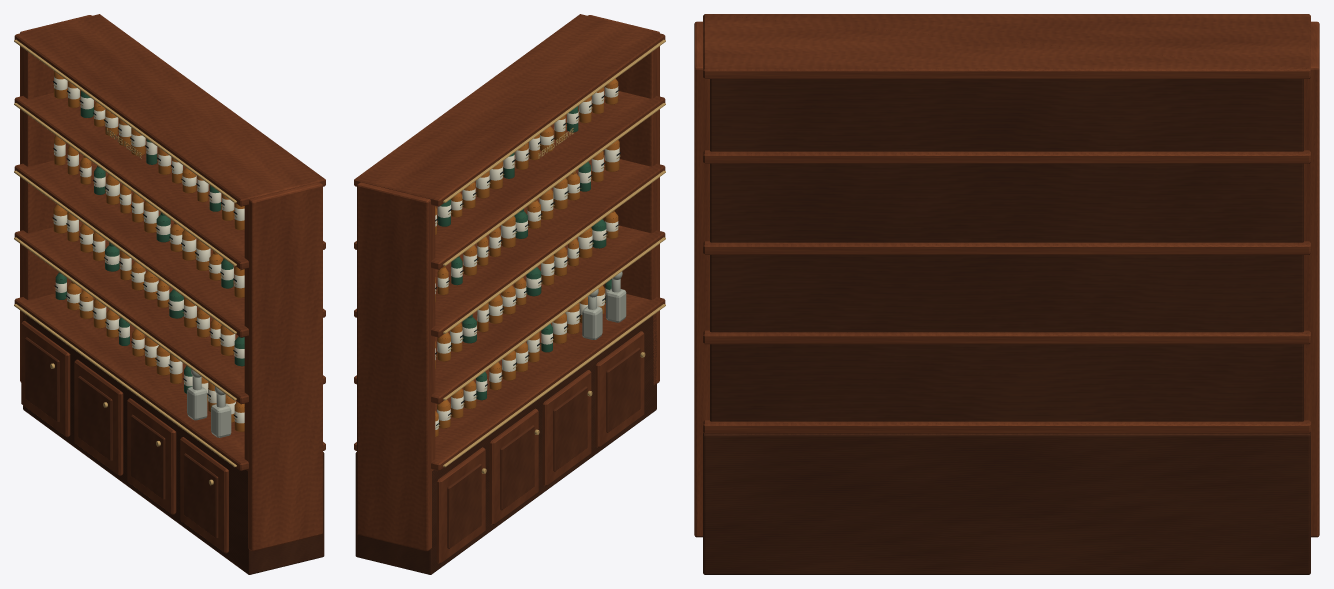
File: whiskey-cabinet.glb
3 renders of one model, left to right at view 1: azimuth 30°, elevation 25°; view 2: azimuth 150°, elevation 25°; view 3: azimuth 270°, elevation 25°, orthographic. The views are drawn at different scales.
Visible parts, largest first — view 1: part::whiskey-cabinet/whiskey-cabinet-end-002, part::whiskey-cabinet/whiskey-cabinet-shelf-005, part::whiskey-cabinet/whiskey-cabinet-shelf-003, part::whiskey-cabinet/whiskey-cabinet-shelf-004, part::whiskey-cabinet/whiskey-cabinet-shelf-002, part::whiskey-cabinet/whiskey-base-cabinet-001, part::whiskey-cabinet/whiskey-cabinet-shelf-001, part::whiskey-cabinet/whiskey-cabinet-end-001, part::whiskey-cabinet/cabinet-raised-door-002, part::whiskey-cabinet/cabinet-raised-door-001, part::whiskey-cabinet/cabinet-recessed-panel-002, part::whiskey-cabinet/cabinet-recessed-panel-001 (+11 smaller); view 2: part::whiskey-cabinet/whiskey-cabinet-end-001, part::whiskey-cabinet/whiskey-cabinet-shelf-005, part::whiskey-cabinet/whiskey-cabinet-shelf-003, part::whiskey-cabinet/whiskey-cabinet-shelf-004, part::whiskey-cabinet/whiskey-cabinet-shelf-002, part::whiskey-cabinet/whiskey-base-cabinet-001, part::whiskey-cabinet/whiskey-cabinet-shelf-001, part::whiskey-cabinet/whiskey-cabinet-end-002, part::whiskey-cabinet/cabinet-raised-door-001, part::whiskey-cabinet/cabinet-raised-door-002, part::whiskey-cabinet/cabinet-raised-door-003, part::whiskey-cabinet/cabinet-raised-door-004 (+11 smaller); view 3: part::whiskey-cabinet/whiskey-cabinet-backing-001, part::whiskey-cabinet/whiskey-base-cabinet-001, part::whiskey-cabinet/whiskey-cabinet-shelf-005, part::whiskey-cabinet/whiskey-cabinet-shelf-002, part::whiskey-cabinet/whiskey-cabinet-shelf-001, part::whiskey-cabinet/whiskey-cabinet-shelf-003, part::whiskey-cabinet/whiskey-cabinet-shelf-004, part::whiskey-cabinet/whiskey-cabinet-end-001, part::whiskey-cabinet/whiskey-cabinet-end-002.
Boxes of the visible parts, bbox=[...] form: part::whiskey-cabinet/whiskey-cabinet-end-002: bbox=[244, 182, 322, 551]; part::whiskey-cabinet/whiskey-cabinet-shelf-005: bbox=[14, 14, 325, 206]; part::whiskey-cabinet/whiskey-cabinet-shelf-003: bbox=[14, 154, 325, 337]; part::whiskey-cabinet/whiskey-cabinet-shelf-004: bbox=[14, 89, 325, 269]; part::whiskey-cabinet/whiskey-cabinet-shelf-002: bbox=[14, 221, 325, 404]; part::whiskey-cabinet/whiskey-base-cabinet-001: bbox=[23, 313, 324, 574]; part::whiskey-cabinet/whiskey-cabinet-shelf-001: bbox=[14, 289, 325, 470]; part::whiskey-cabinet/whiskey-cabinet-end-001: bbox=[20, 15, 91, 382]; part::whiskey-cabinet/cabinet-raised-door-002: bbox=[74, 359, 123, 475]; part::whiskey-cabinet/cabinet-raised-door-001: bbox=[21, 321, 70, 437]; part::whiskey-cabinet/cabinet-recessed-panel-002: bbox=[78, 376, 112, 461]; part::whiskey-cabinet/cabinet-recessed-panel-001: bbox=[25, 337, 59, 422]; part::whiskey-cabinet/whiskey-cabinet-end-001: bbox=[357, 182, 435, 551]; part::whiskey-cabinet/whiskey-cabinet-shelf-005: bbox=[354, 14, 665, 206]; part::whiskey-cabinet/whiskey-cabinet-shelf-003: bbox=[354, 155, 665, 337]; part::whiskey-cabinet/whiskey-cabinet-shelf-004: bbox=[354, 87, 665, 269]; part::whiskey-cabinet/whiskey-cabinet-shelf-002: bbox=[354, 225, 665, 404]; part::whiskey-cabinet/whiskey-base-cabinet-001: bbox=[355, 314, 656, 574]; part::whiskey-cabinet/whiskey-cabinet-shelf-001: bbox=[354, 289, 665, 470]; part::whiskey-cabinet/whiskey-cabinet-end-002: bbox=[588, 15, 659, 384]; part::whiskey-cabinet/cabinet-raised-door-001: bbox=[436, 447, 485, 563]; part::whiskey-cabinet/cabinet-raised-door-002: bbox=[489, 408, 538, 525]; part::whiskey-cabinet/cabinet-raised-door-003: bbox=[542, 370, 591, 486]; part::whiskey-cabinet/cabinet-raised-door-004: bbox=[595, 331, 644, 447]; part::whiskey-cabinet/whiskey-cabinet-backing-001: bbox=[710, 79, 1303, 421]; part::whiskey-cabinet/whiskey-base-cabinet-001: bbox=[703, 433, 1310, 574]; part::whiskey-cabinet/whiskey-cabinet-shelf-005: bbox=[703, 14, 1310, 78]; part::whiskey-cabinet/whiskey-cabinet-shelf-002: bbox=[703, 330, 1310, 344]; part::whiskey-cabinet/whiskey-cabinet-shelf-001: bbox=[703, 420, 1310, 433]; part::whiskey-cabinet/whiskey-cabinet-shelf-003: bbox=[703, 241, 1310, 254]; part::whiskey-cabinet/whiskey-cabinet-shelf-004: bbox=[703, 150, 1310, 163]; part::whiskey-cabinet/whiskey-cabinet-end-001: bbox=[1304, 21, 1319, 537]; part::whiskey-cabinet/whiskey-cabinet-end-002: bbox=[694, 21, 709, 537].
Bounding box in the file's own units: 0.81 × 3.23 × 3.61.
Materials: 13 (4 with a texture image).
